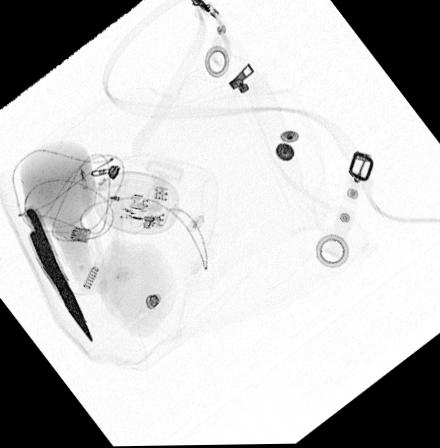Pliers: (23, 204, 97, 344)
